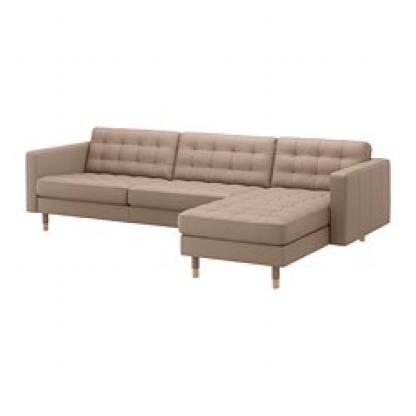Sofa: (19, 110, 394, 296)
